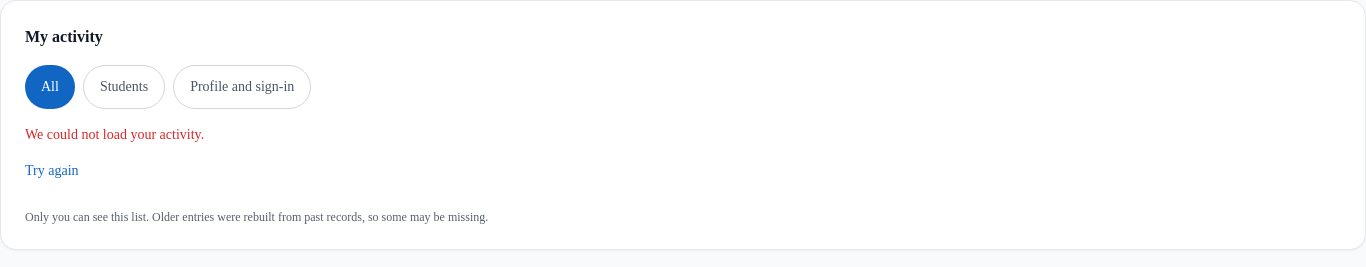
Scenario: a failed load says so, and Try again asks again
Expected: the message shows "We could not load your activity.", [25, 127, 204, 142]
Click the button "Try again" at (52, 171), box [25, 149, 78, 193]
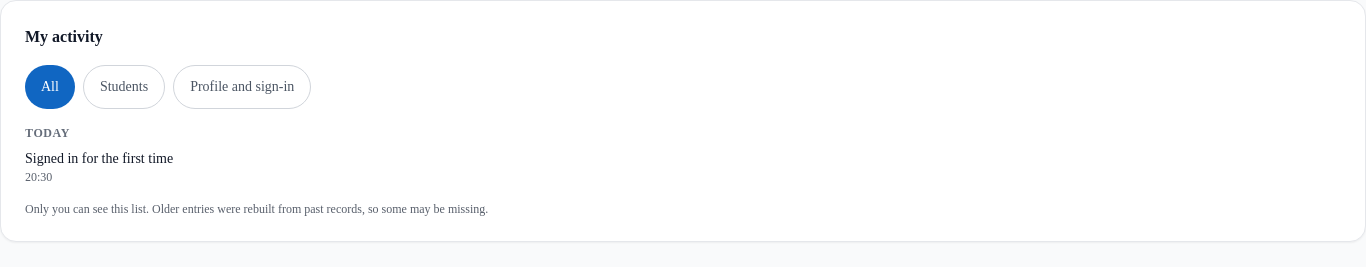
Result: the text "Signed in for the first time" is shown at [25, 151, 173, 166]
